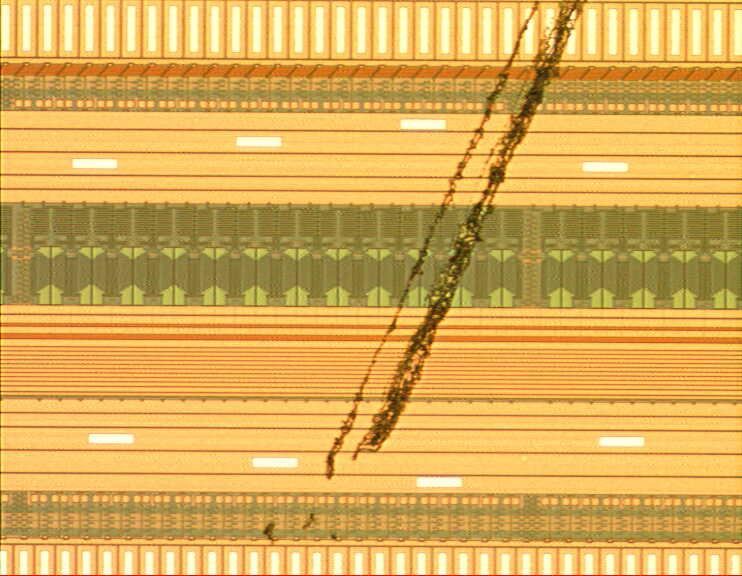SCRATCH: (238, 1, 600, 576)
